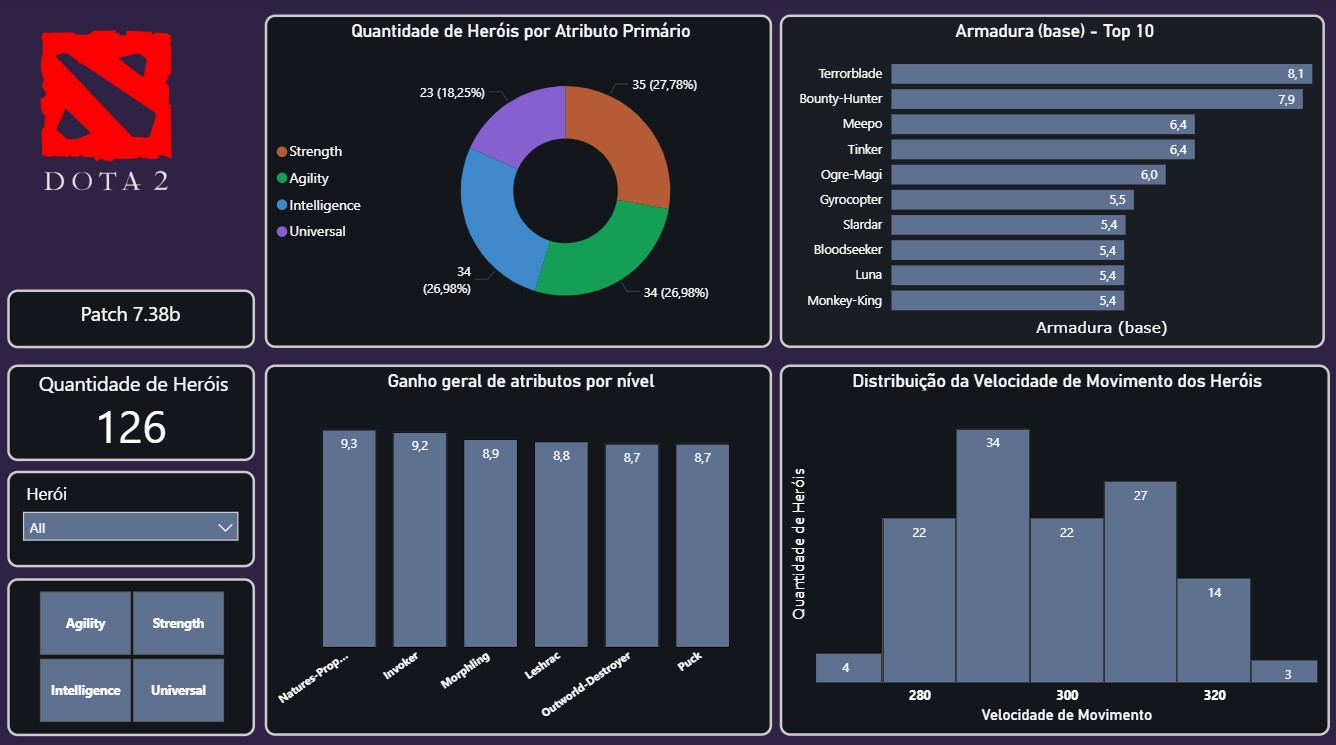

The page's visual inventory and layout, read from the dashboard file:
{"tool":"powerbi","page":{"name":"Page 1","canvas":[1280,720],"ordinal":0},"visuals":[{"type":"card","title":"Quantidade de Heróis","fields":{"Values":["Count(dota2_heroes_limpo.id_heroi)"]},"box":[10.7,350,235.7,91.7],"z":0},{"type":"donutChart","title":"Quantidade de Heróis por Atributo Primário","fields":{"Category":["dota2_heroes_limpo.atributo_primario"],"Y":["CountNonNull(dota2_heroes_limpo.atributo_primario)"]},"box":[256,16.7,483.3,317.9],"z":1000},{"type":"slicer","fields":{"Values":["dota2_heroes_limpo.nome_heroi"]},"box":[10.7,451.2,235.7,91.7],"z":2000},{"type":"slicer","fields":{"Values":["dota2_heroes_limpo.atributo_primario"]},"box":[10.7,553.6,235.7,150],"z":3000},{"type":"columnChart","title":"Ganho geral de atributos por nível","fields":{"Category":["dota2_heroes_limpo.nome_heroi"],"Y":["Sum(dota2_heroes_limpo.ganho_geral_atributos)"]},"box":[256,350,483.3,353.6],"z":4000},{"type":"clusteredColumnChart","title":"Distribuição da Velocidade de Movimento dos Heróis","fields":{"Category":["dota2_heroes_limpo.velocidade_movimento (bins)"],"Y":["CountNonNull(dota2_heroes_limpo.id_heroi)"]},"box":[746.4,350,523.8,353.6],"z":5000},{"type":"image","box":[0,0,210.2,215.3],"z":6000},{"type":"clusteredBarChart","title":"Armadura (base)","fields":{"Y":["Sum(dota2_heroes_limpo.armadura)"],"Category":["dota2_heroes_limpo.nome_heroi"]},"box":[746.4,16.7,519.1,317.9],"z":7000},{"type":"textbox","box":[10.7,278.6,235.7,56],"z":8000}]}

Visuals, with their boxes in screenshot pixels (x1, y1, x2, y2), scaled from the page's 1280x720 canvas onto the 1336x745 screenshot:
"Quantidade de Heróis" card: (left=11, top=362, right=257, bottom=457)
"Quantidade de Heróis por Atributo Primário" donutChart: (left=267, top=17, right=772, bottom=346)
slicer - dota2_heroes_limpo.nome_heroi: (left=11, top=467, right=257, bottom=562)
slicer - dota2_heroes_limpo.atributo_primario: (left=11, top=573, right=257, bottom=728)
"Ganho geral de atributos por nível" columnChart: (left=267, top=362, right=772, bottom=728)
"Distribuição da Velocidade de Movimento dos Heróis" clusteredColumnChart: (left=779, top=362, right=1326, bottom=728)
image: (left=0, top=0, right=219, bottom=223)
"Armadura (base)" clusteredBarChart: (left=779, top=17, right=1321, bottom=346)
textbox: (left=11, top=288, right=257, bottom=346)
